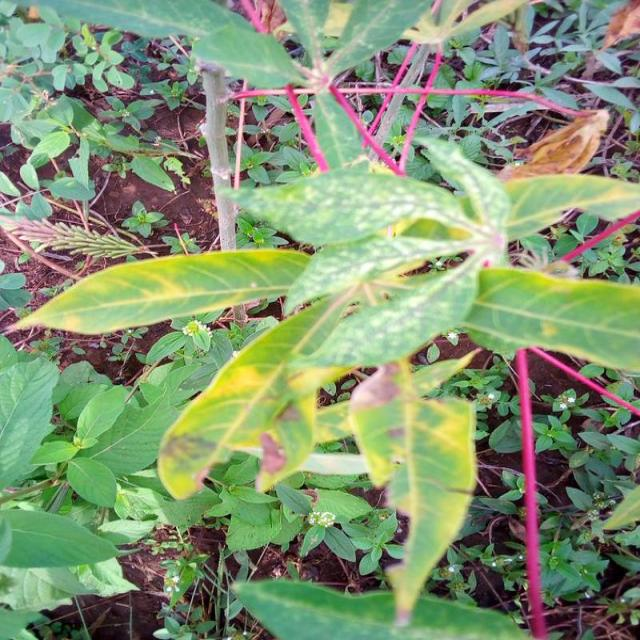cassava leaf: (5, 245, 312, 336)
